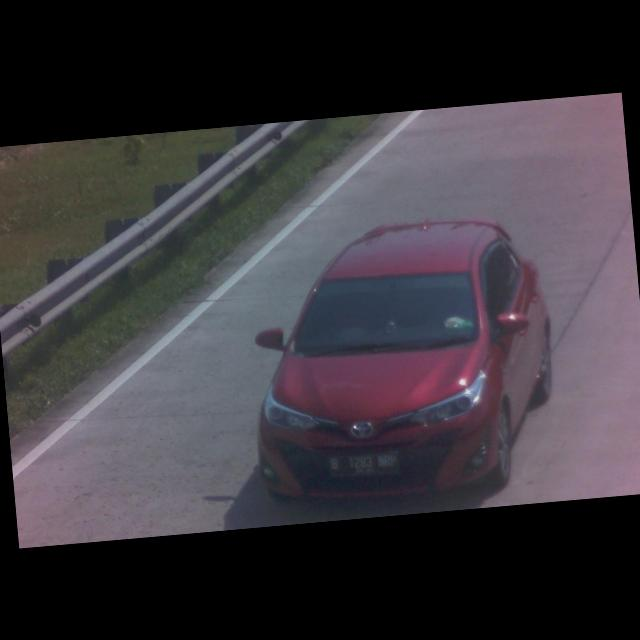plate: (330, 446, 399, 479)
